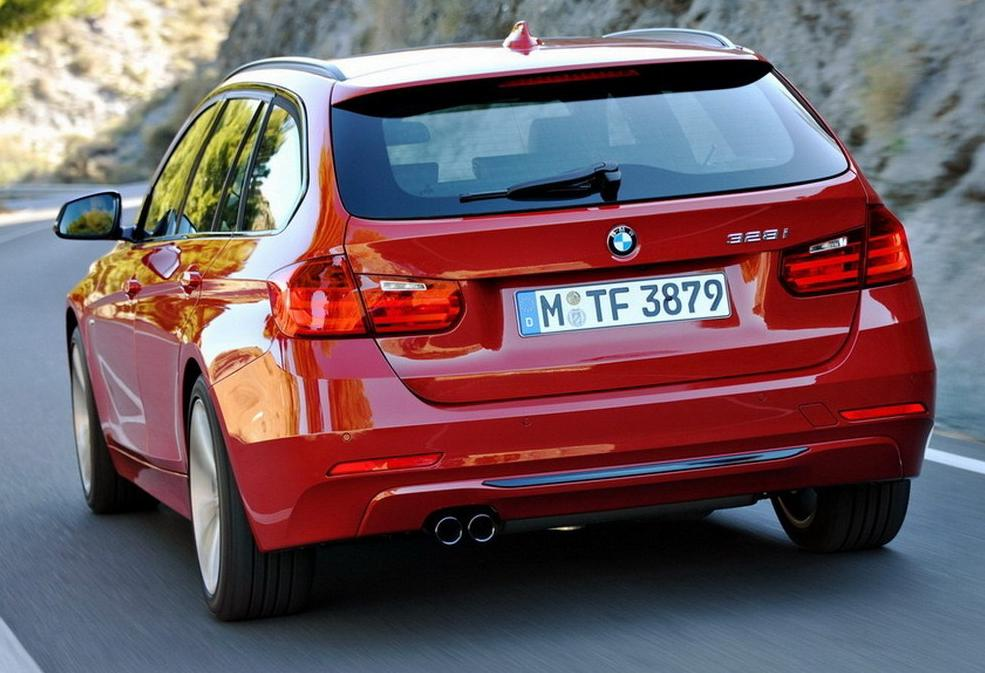back_view: (256, 180, 942, 550)
backlight: (264, 253, 471, 351)
side_glass: (124, 82, 315, 251)
